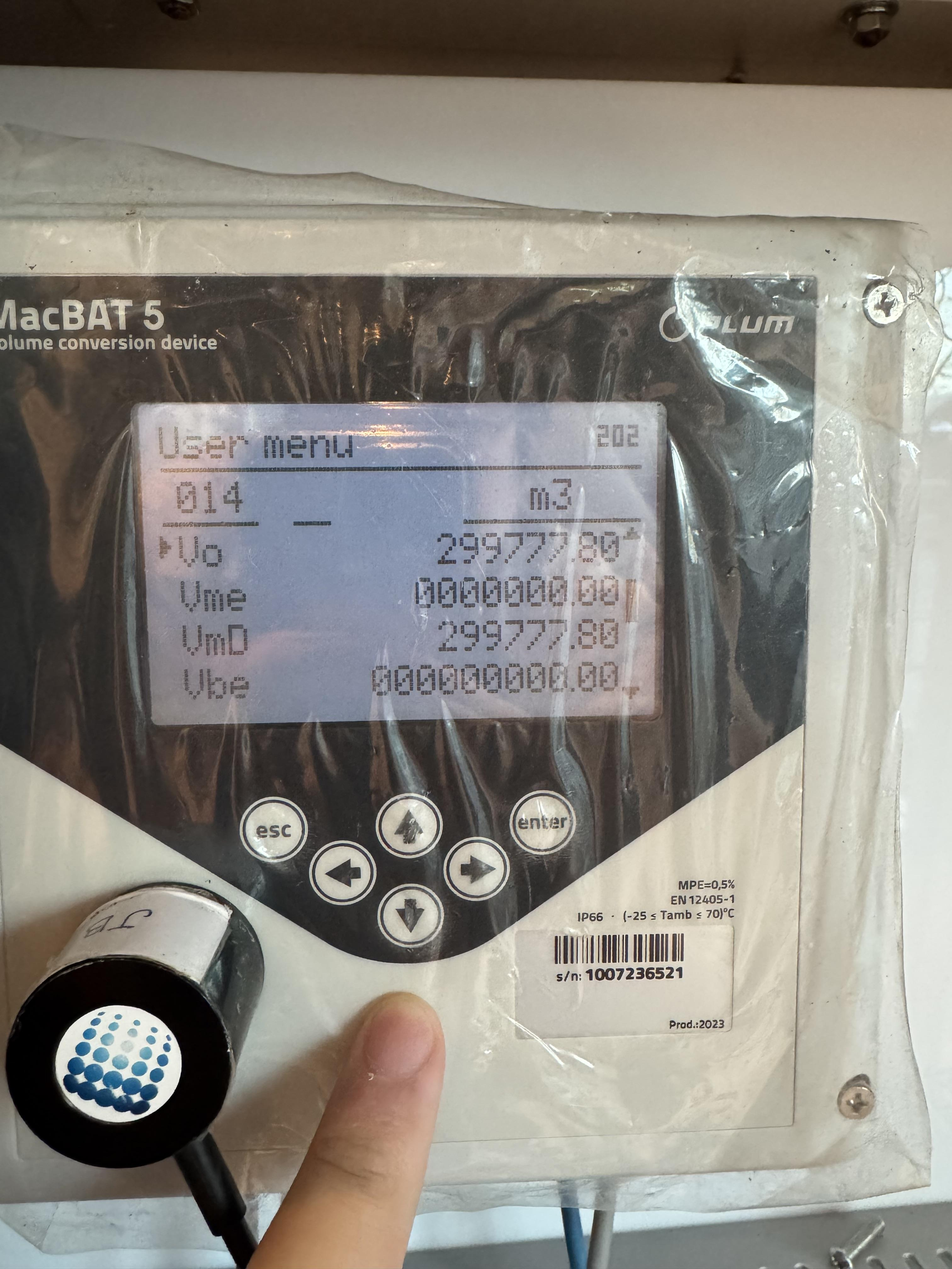digital_screen: (133, 405, 664, 724)
